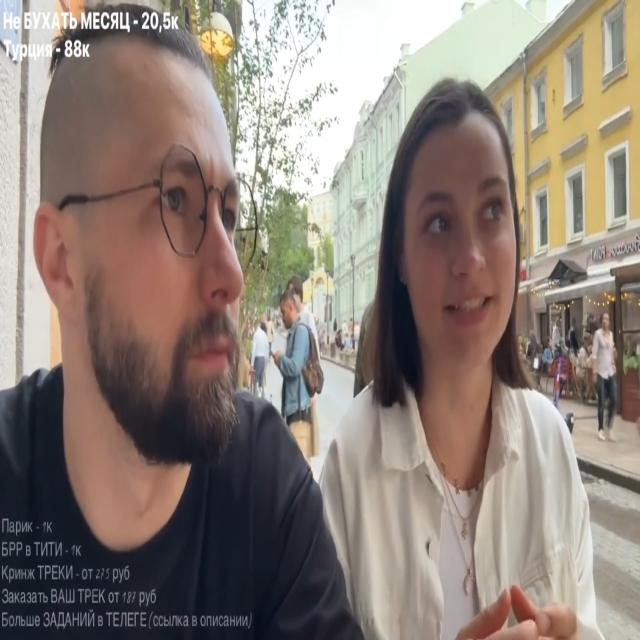Person: (0, 18, 358, 635), (304, 78, 602, 636), (268, 277, 325, 459), (592, 314, 621, 443), (248, 315, 272, 403)
